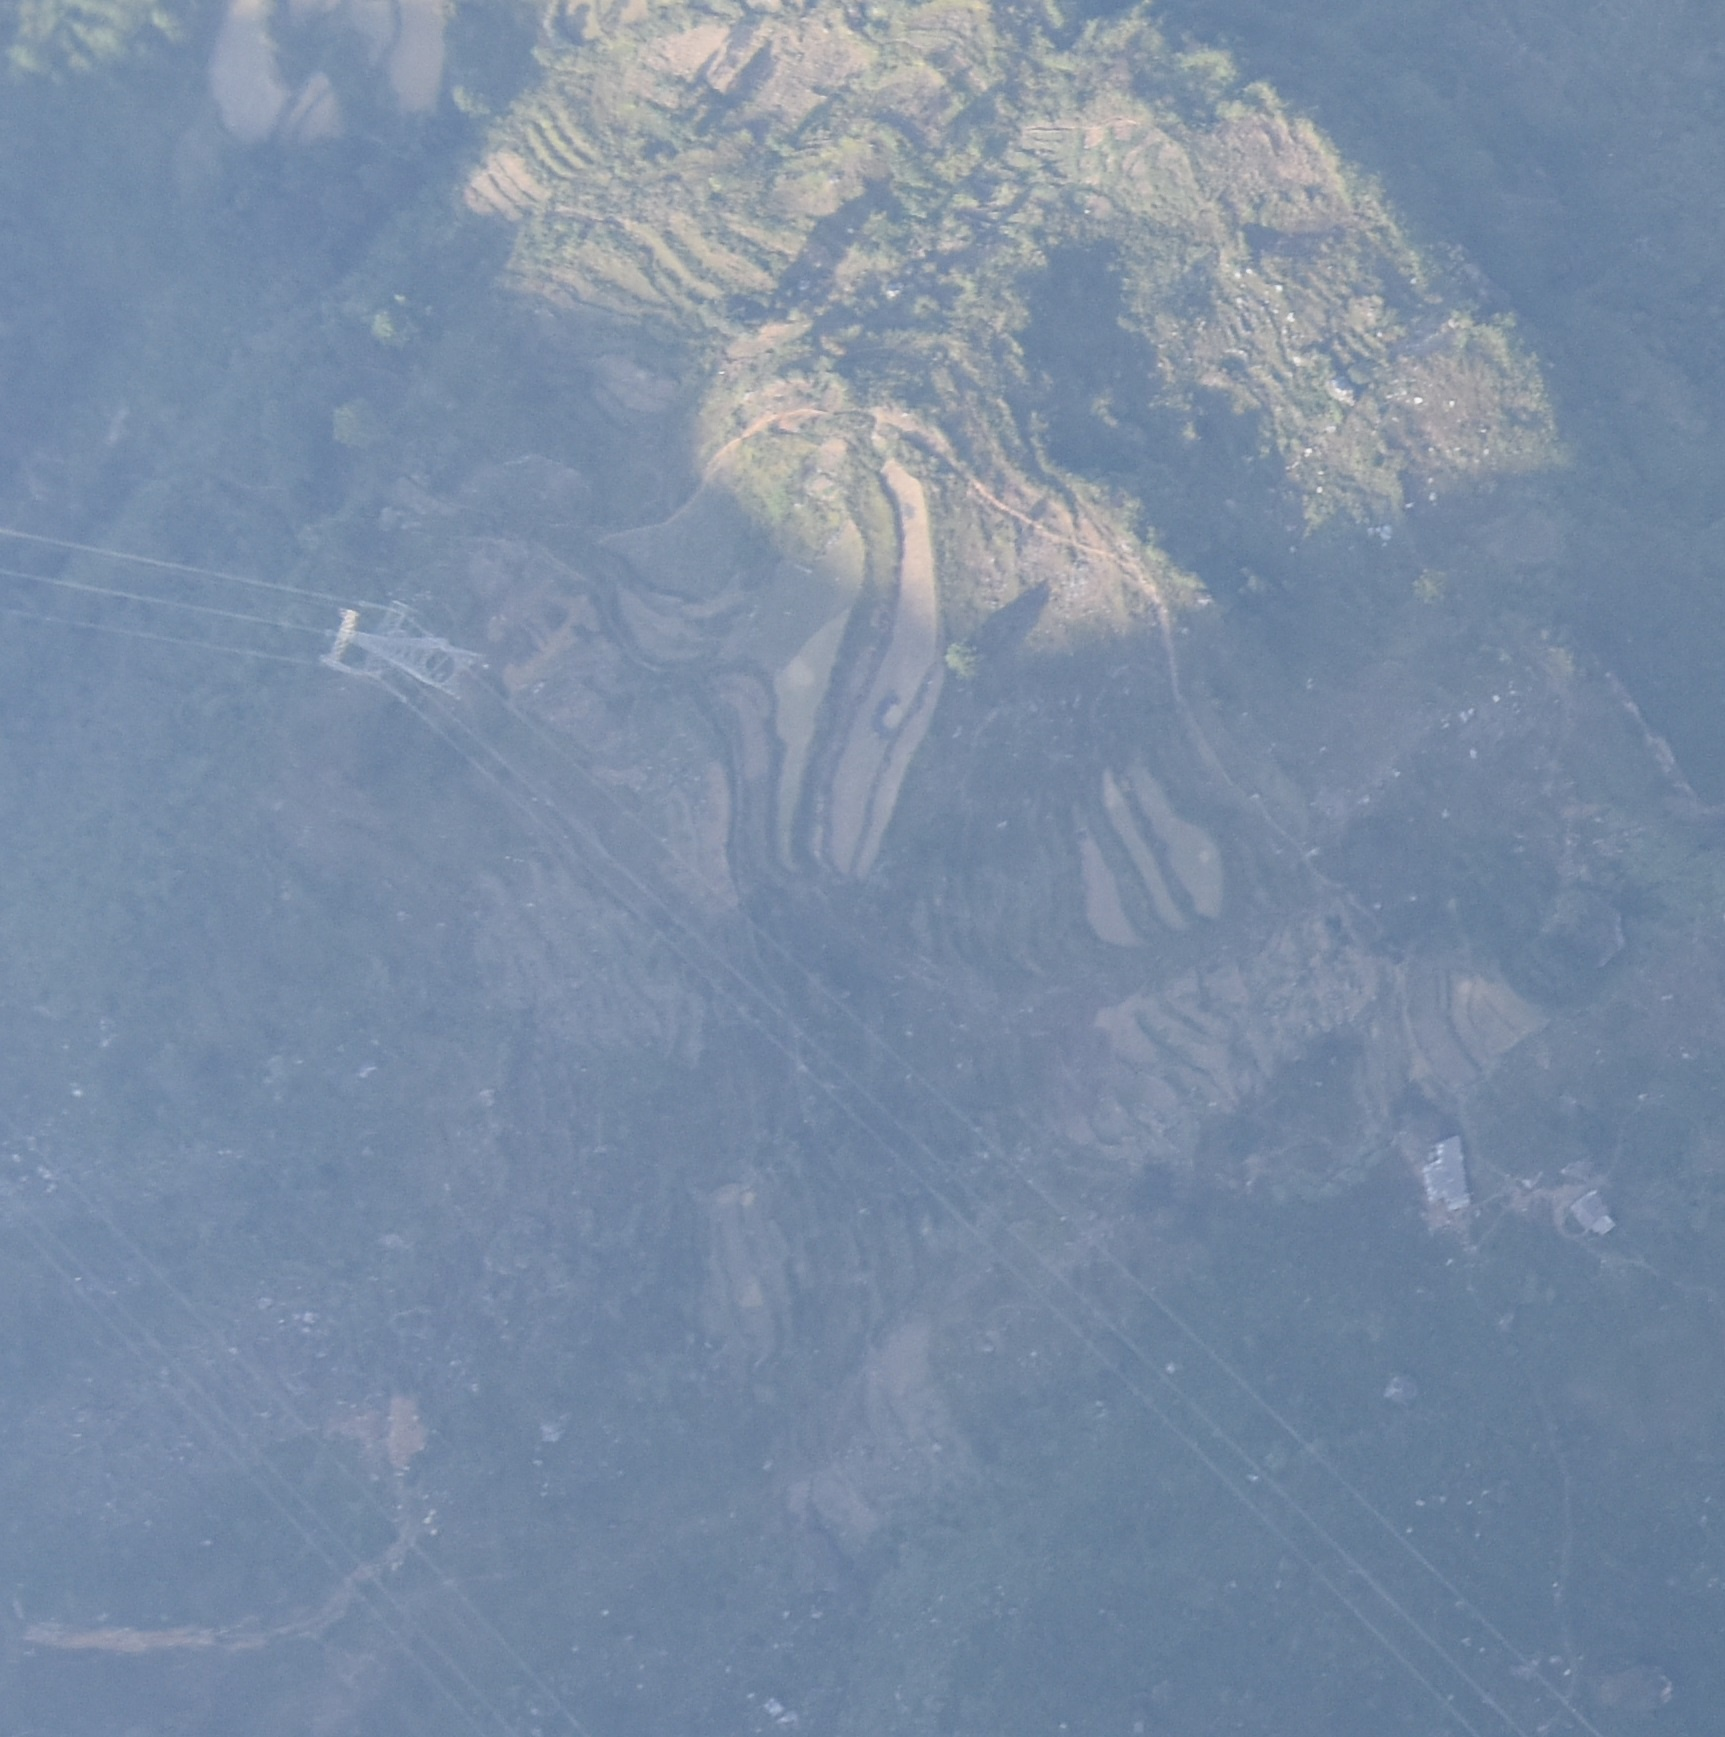building: (1422, 1135, 1471, 1211), (1570, 1188, 1614, 1237)
cable-tower: (319, 591, 501, 711)
